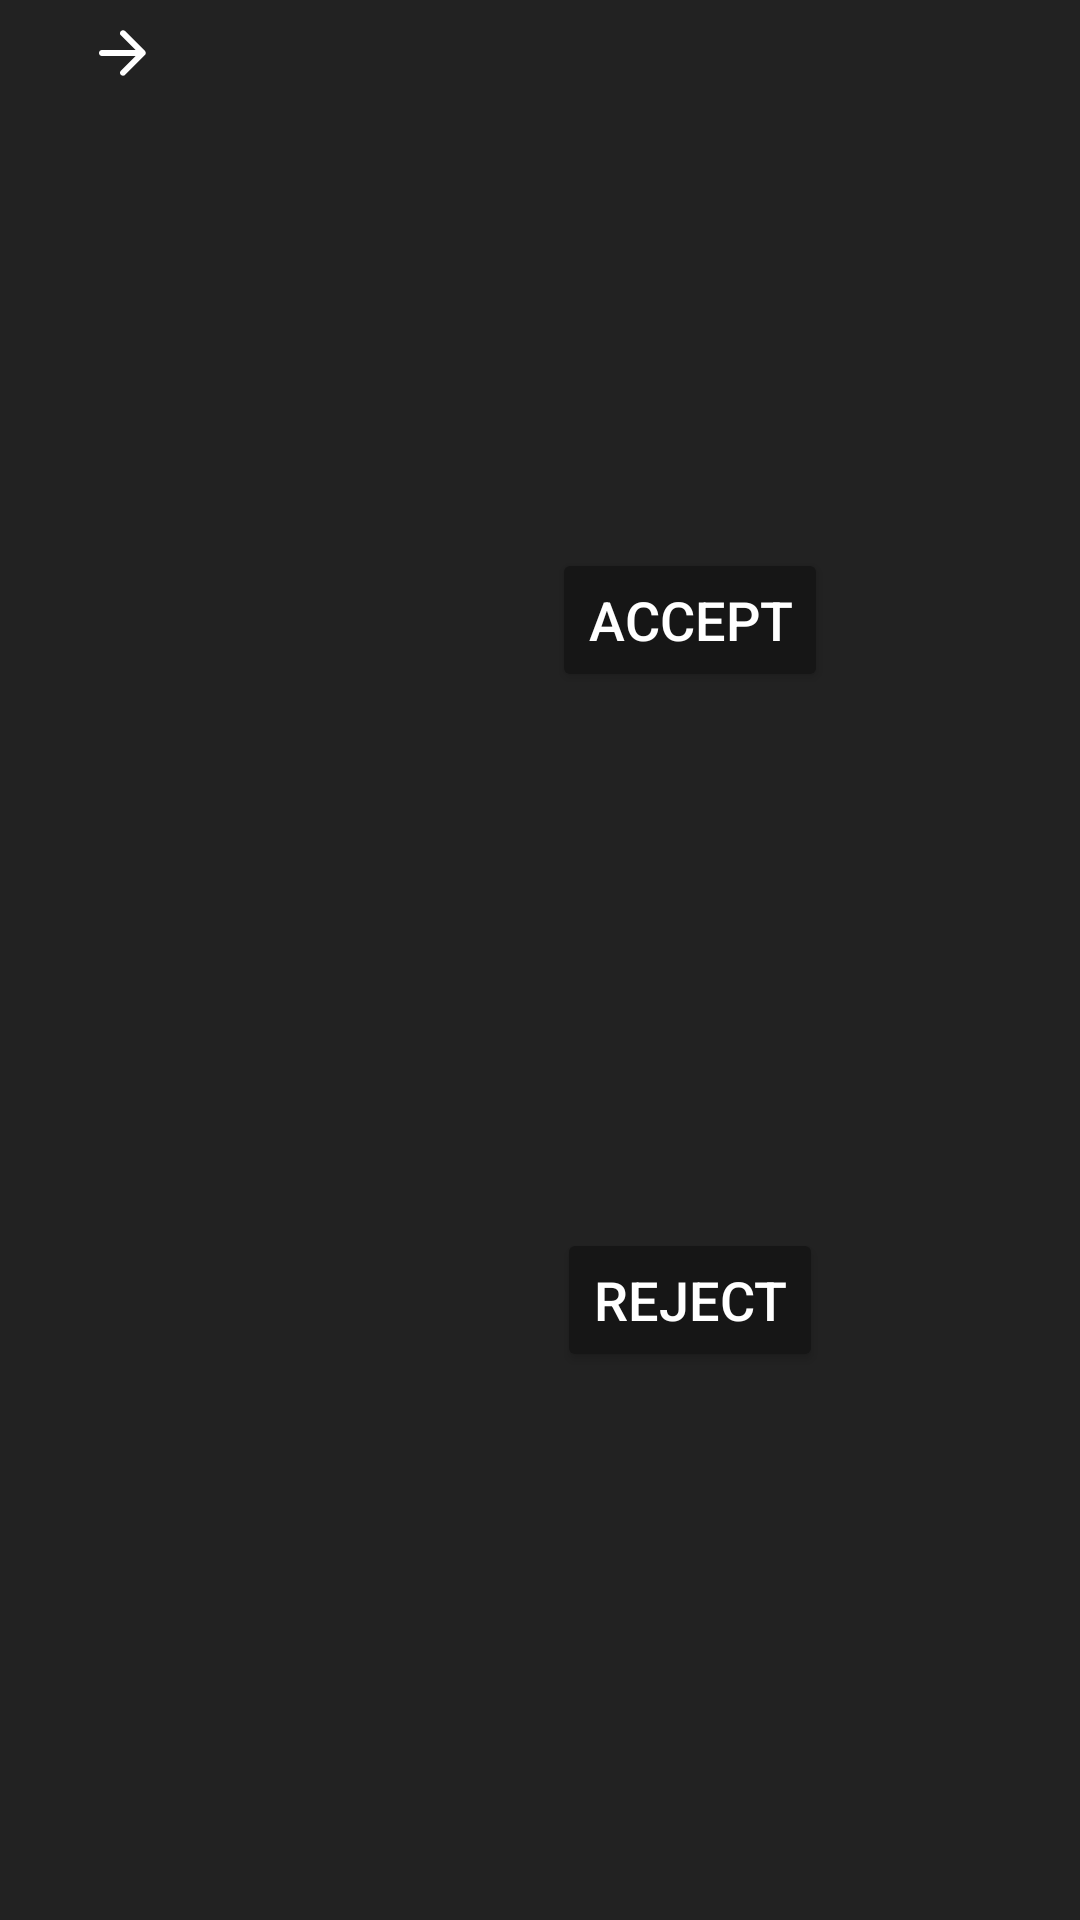

Icons on this 1080w x 1920h Android screen, each with the point to tap as [x,y]:
arrow: [122,53]
